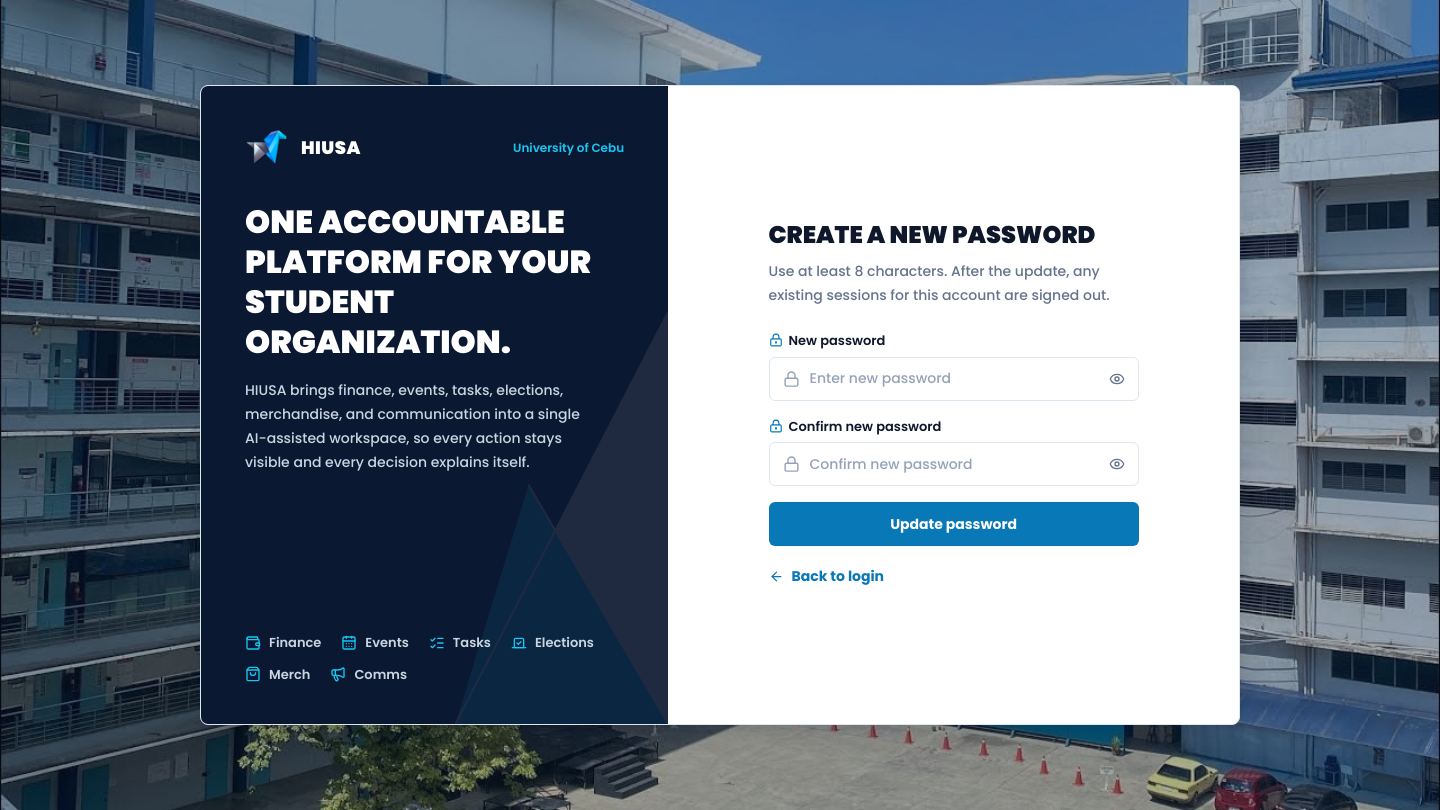
password recovery pages › validates the emailed token and submits a confirmed replacement password
Type "Replacement-Password-123!" into the password field labelled "New password" at (954, 379), box [768,357,1138,401]
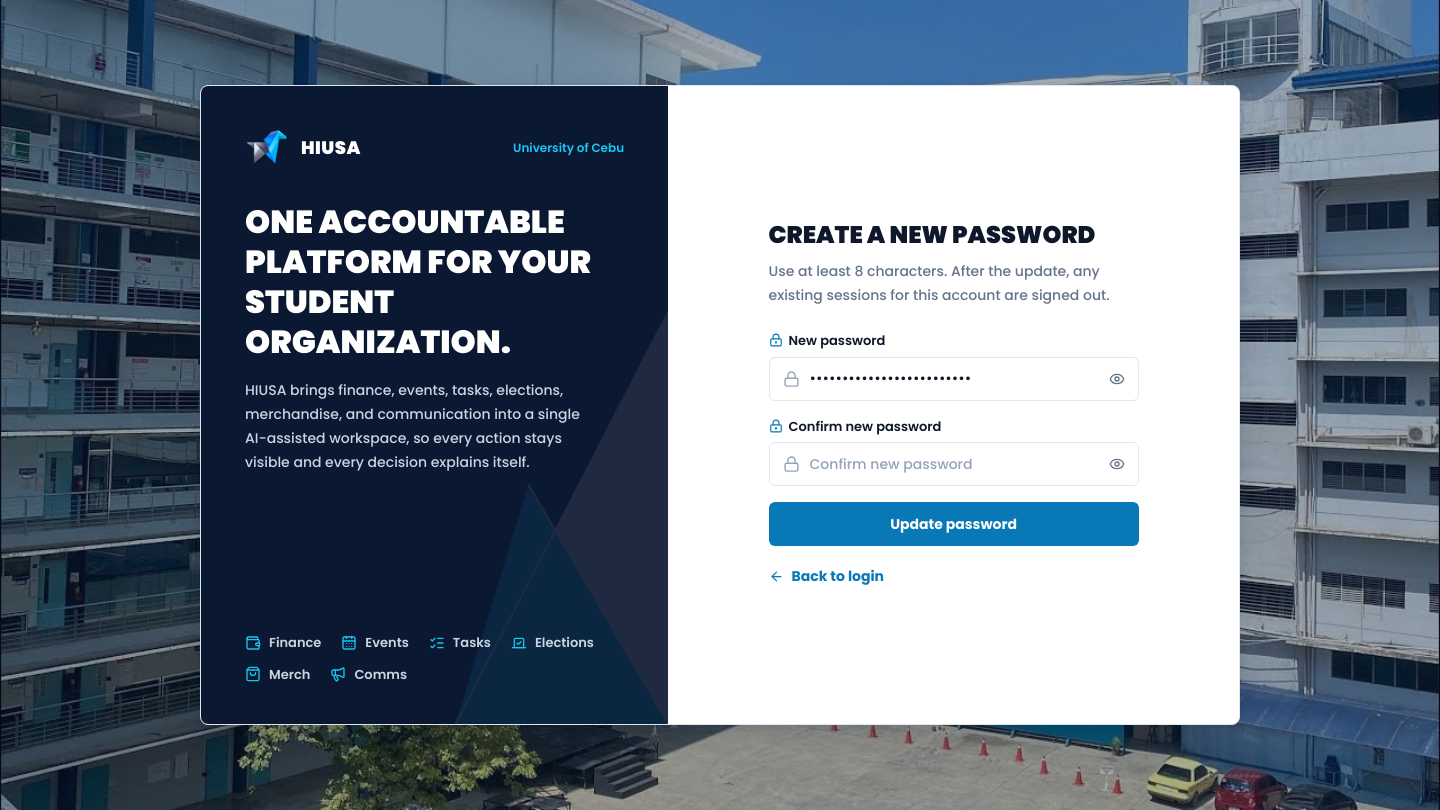
Type "Replacement-Password-123!" into the password field labelled "Confirm new password" at (954, 464), box [768,442,1138,486]
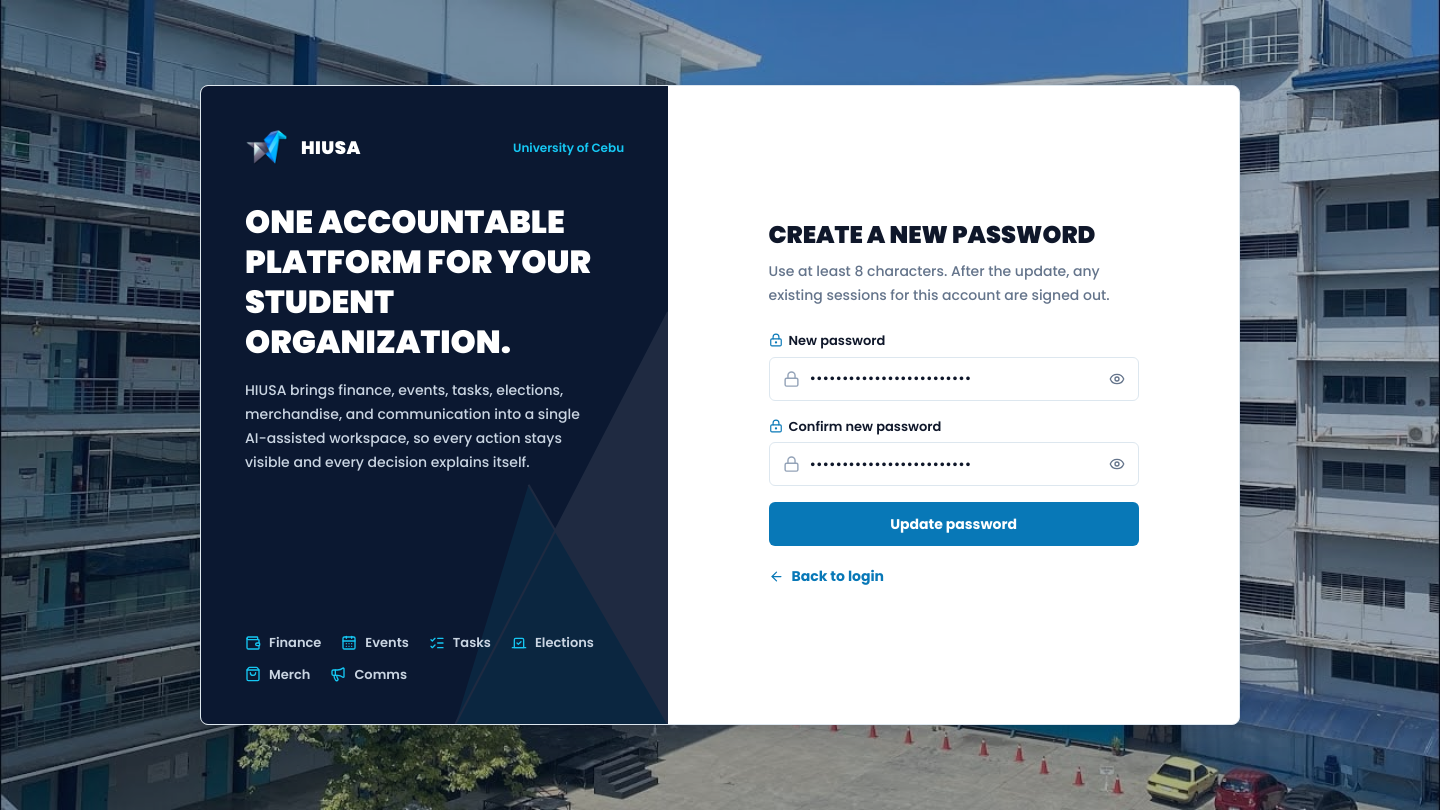
Click the button "Update password" at (954, 524), box [768,502,1138,546]
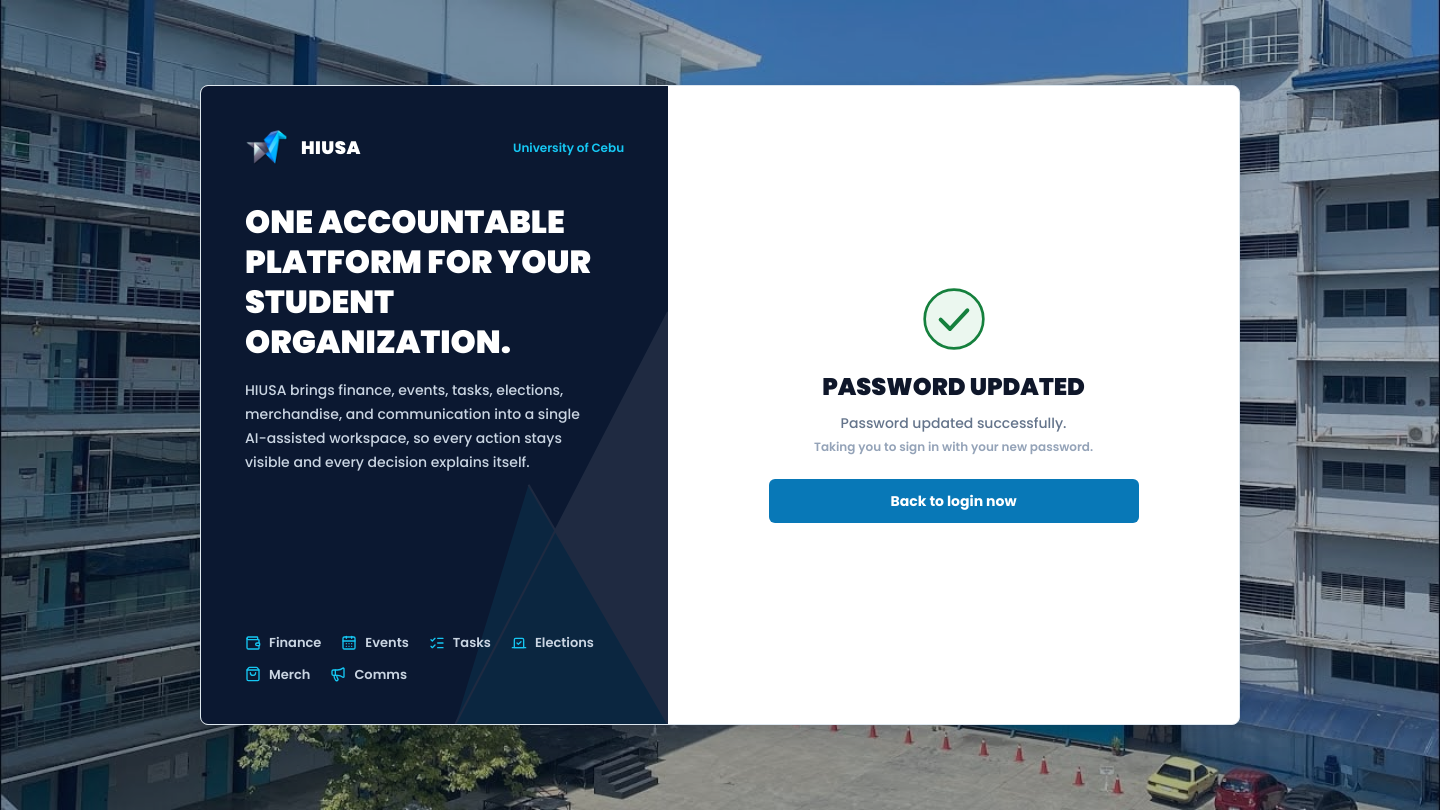
Result: the text "Password updated successfully." is shown at [841,411,1066,435]
